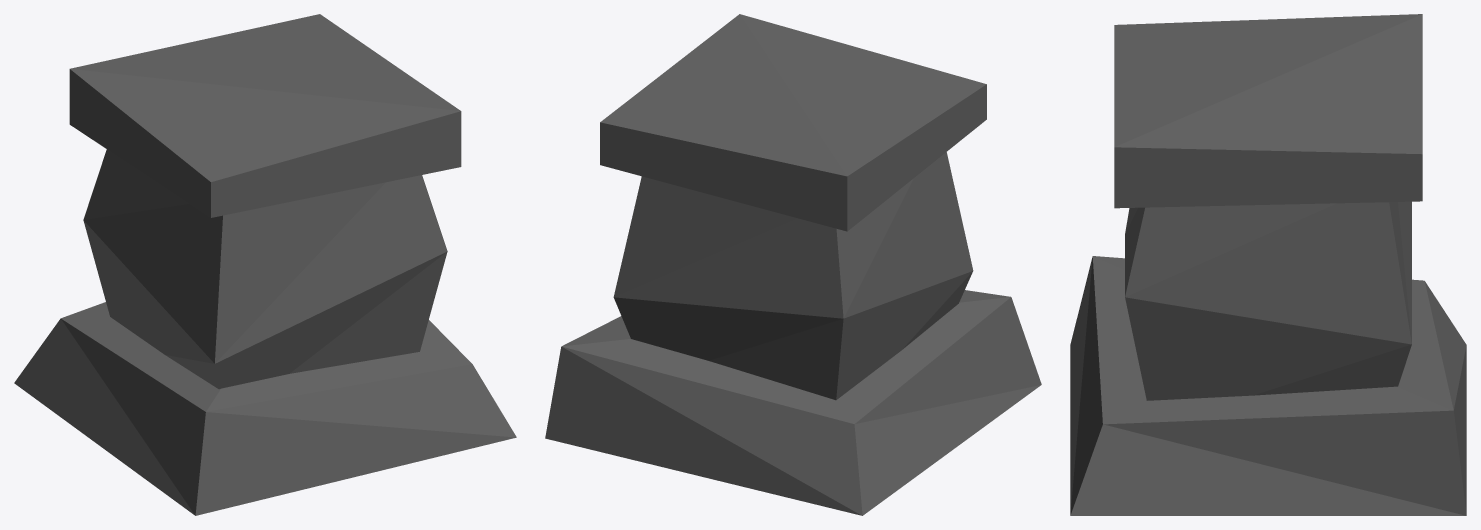
The model's file is Stone_Rail_02.FBX.
3 renders of one model, left to right at view 1: azimuth 30°, elevation 25°; view 2: azimuth 150°, elevation 25°; view 3: azimuth 270°, elevation 25°, orthographic. The views are drawn at different scales.
Visible parts, largest first — view 1: Stone_Rail_02; view 2: Stone_Rail_02; view 3: Stone_Rail_02.
Part boxes in pixels (x1,y1,x2,y2): Stone_Rail_02: (14,14,516,515); Stone_Rail_02: (545,14,1041,515); Stone_Rail_02: (1070,14,1466,515).
Size of the model in its own units: 1.07 by 1.02 by 1.04.
